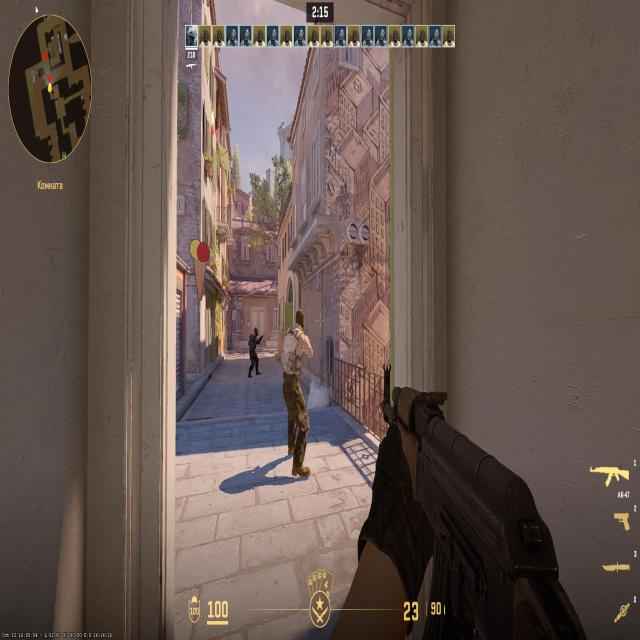CT: (249, 323, 259, 380)
CT_heat: (252, 328, 256, 339)
T: (284, 315, 305, 452)
T_heat: (295, 316, 305, 338)
